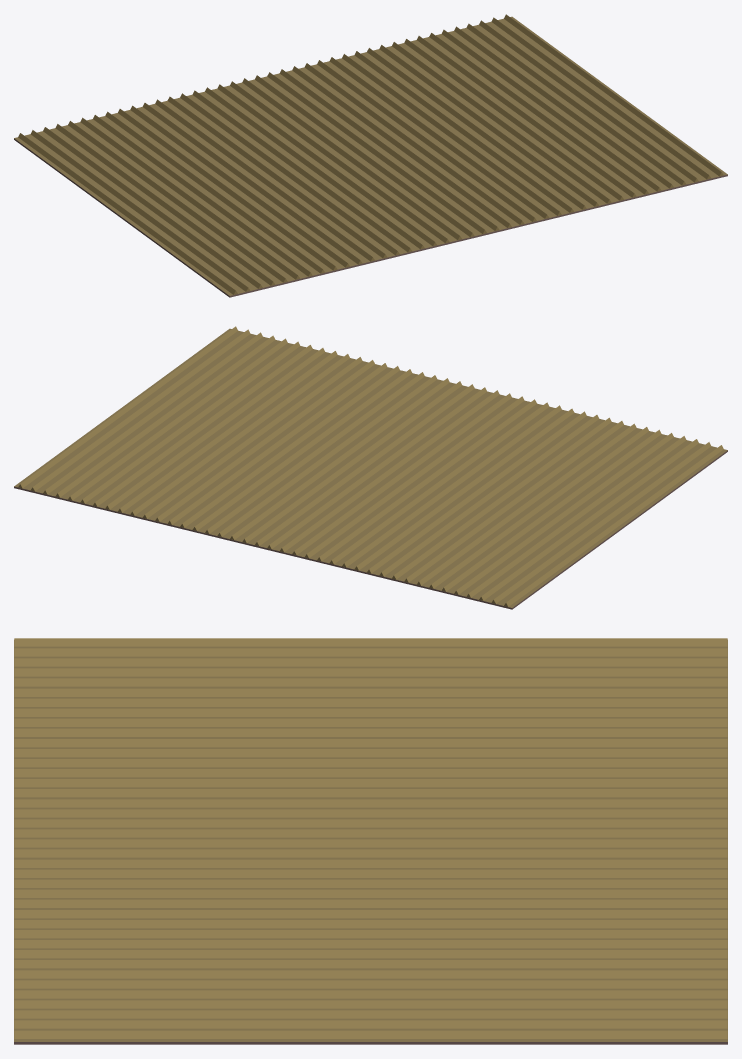
The model's file is FMS_Mach_Demo_FieldStubble.fbx.
The picture shows the model from 3 angles, top to bottom: view 1: azimuth 30°, elevation 25°; view 2: azimuth 150°, elevation 25°; view 3: azimuth 270°, elevation 25°; orthographic projection. The views are drawn at different scales.
Visible parts, largest first — view 1: FieldStubble; view 2: FieldStubble; view 3: FieldStubble.
Part boxes in pixels (bbox=[...]): FieldStubble: bbox=[14, 14, 727, 297]; FieldStubble: bbox=[14, 326, 727, 609]; FieldStubble: bbox=[14, 638, 727, 1044].
Size of the model in its own units: 16 by 0.17 by 12.
